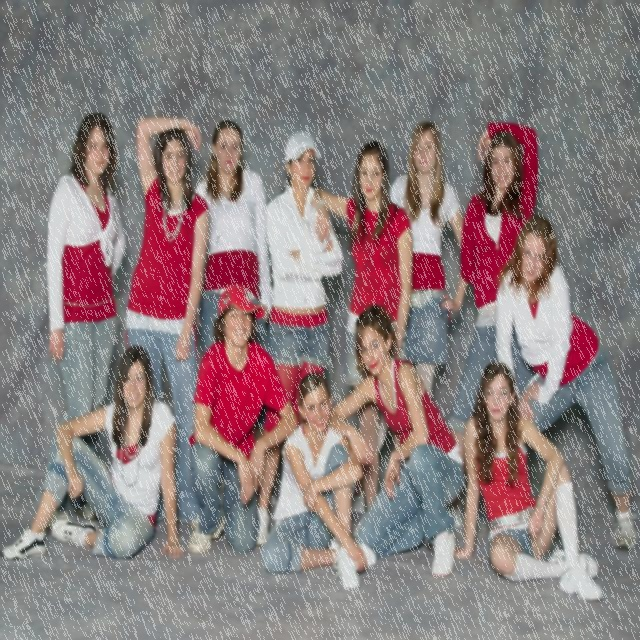pessoa: (332, 118, 470, 512), (491, 211, 638, 553), (310, 138, 415, 540), (0, 342, 185, 563), (250, 128, 344, 550), (324, 302, 466, 578), (450, 361, 604, 604), (124, 113, 210, 531), (44, 110, 128, 529), (446, 118, 540, 460), (186, 282, 299, 554), (260, 370, 378, 592), (194, 118, 274, 358)
